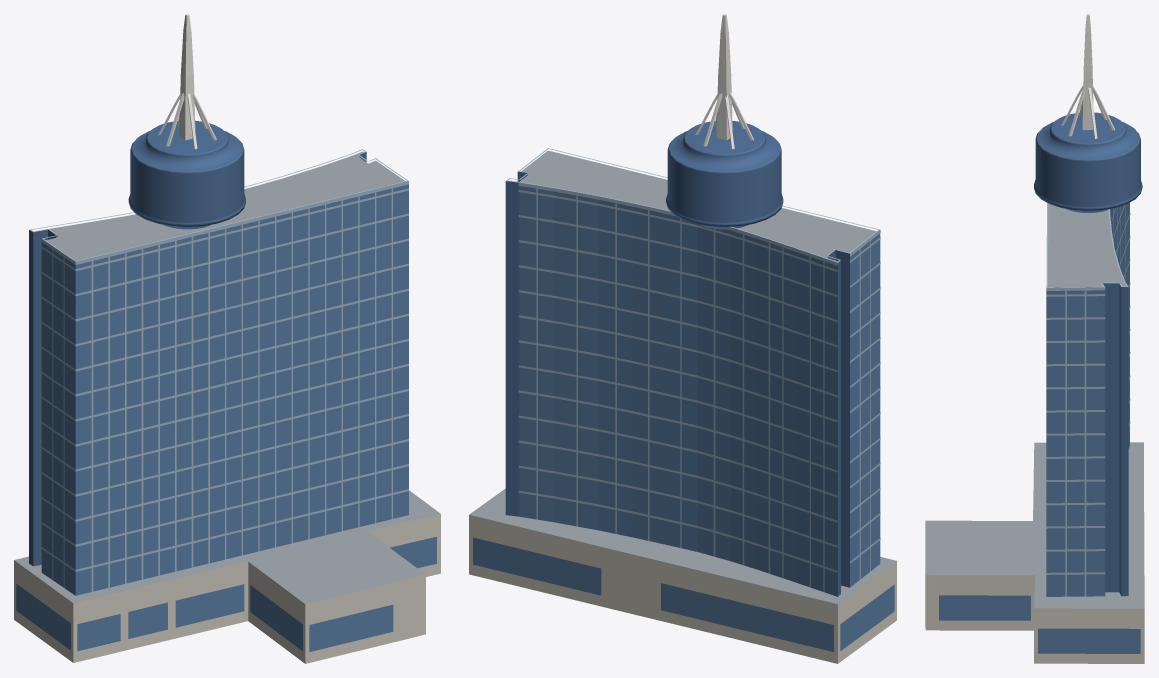
Rendered from mexico-city-world-trade-center.glb.
3 renders of one model, left to right at view 1: azimuth 30°, elevation 25°; view 2: azimuth 150°, elevation 25°; view 3: azimuth 270°, elevation 25°, orthographic. The views are drawn at different scales.
Visible parts, largest first — view 1: World Trade Center Mexico City; view 2: World Trade Center Mexico City; view 3: World Trade Center Mexico City.
Boxes of the visible parts, box(x1,y1,x2,y2) form: World Trade Center Mexico City: box(14, 14, 440, 663); World Trade Center Mexico City: box(469, 14, 896, 663); World Trade Center Mexico City: box(925, 14, 1144, 663).
Size of the model in its own units: 142 by 218 by 79.2.
